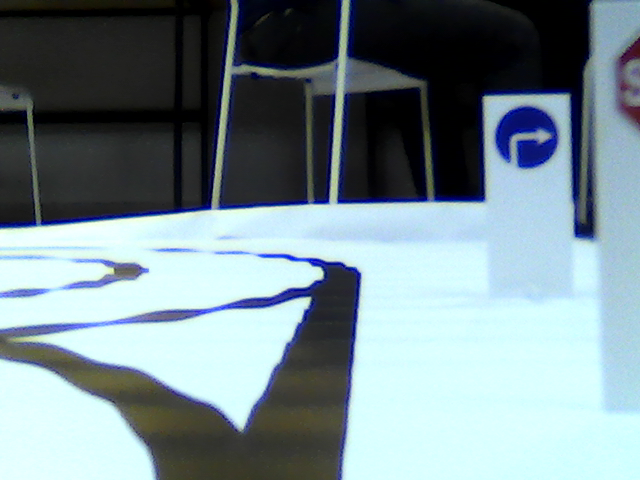Right: (489, 104, 559, 166)
